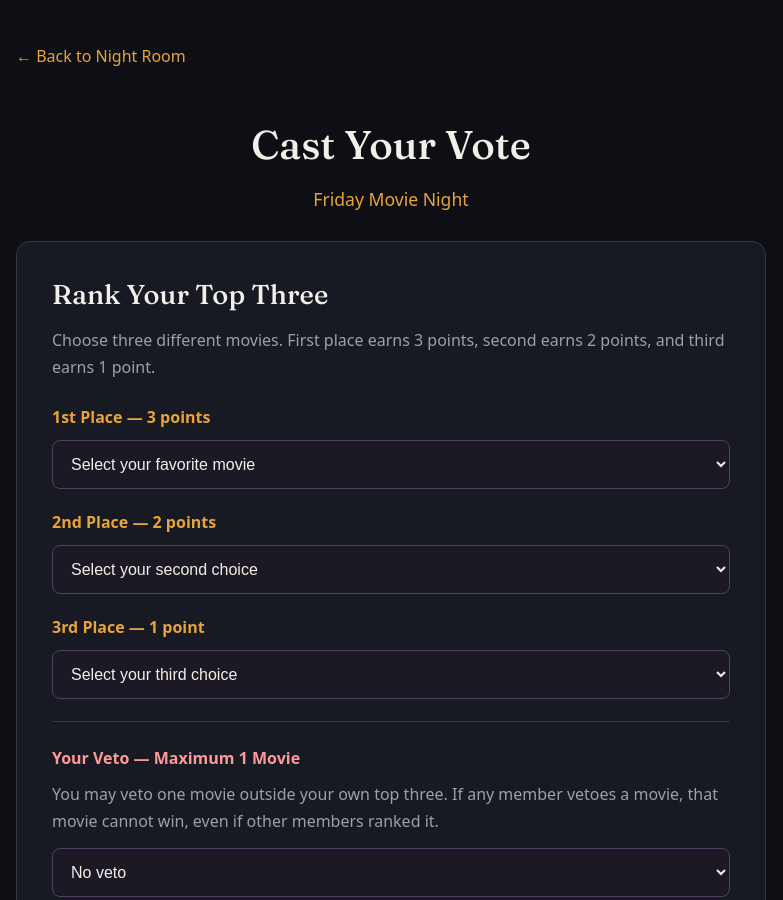
Test: ranking your own vetoed movie clears your veto
Expected: the heading "Cast Your Vote" is shown, [251,120,531,169]
Step 1. Select "Film 1" in the dropdown labelled "1st Place — 3 points" → (391, 465), box [52,440,730,489]
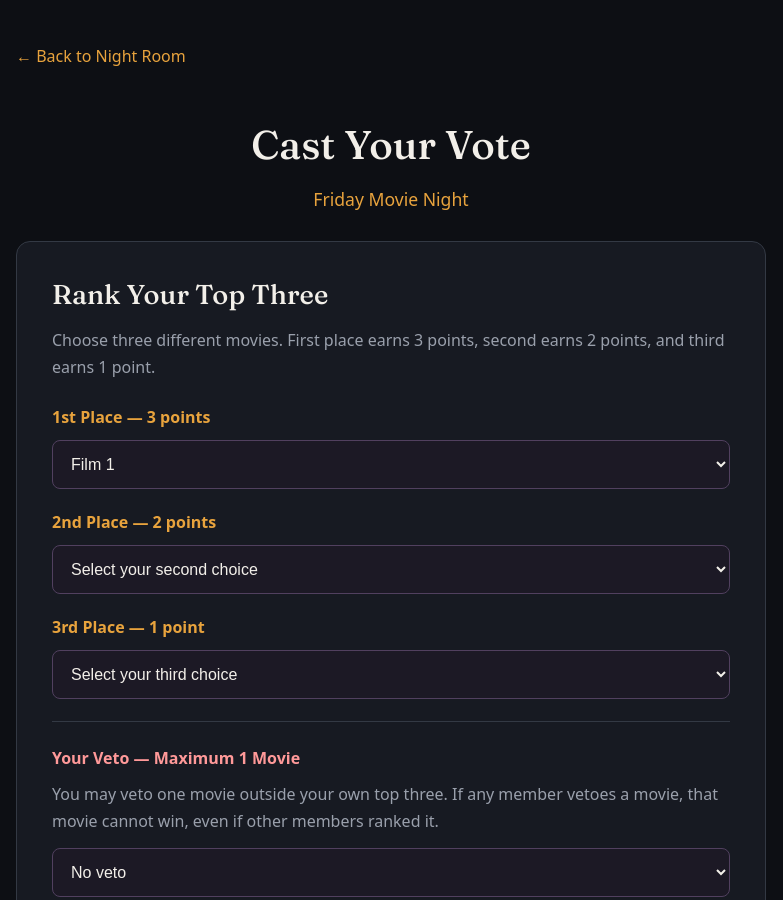
Step 2. Select "Film 2" in the dropdown labelled "2nd Place — 2 points" → (391, 570), box [52,545,730,594]
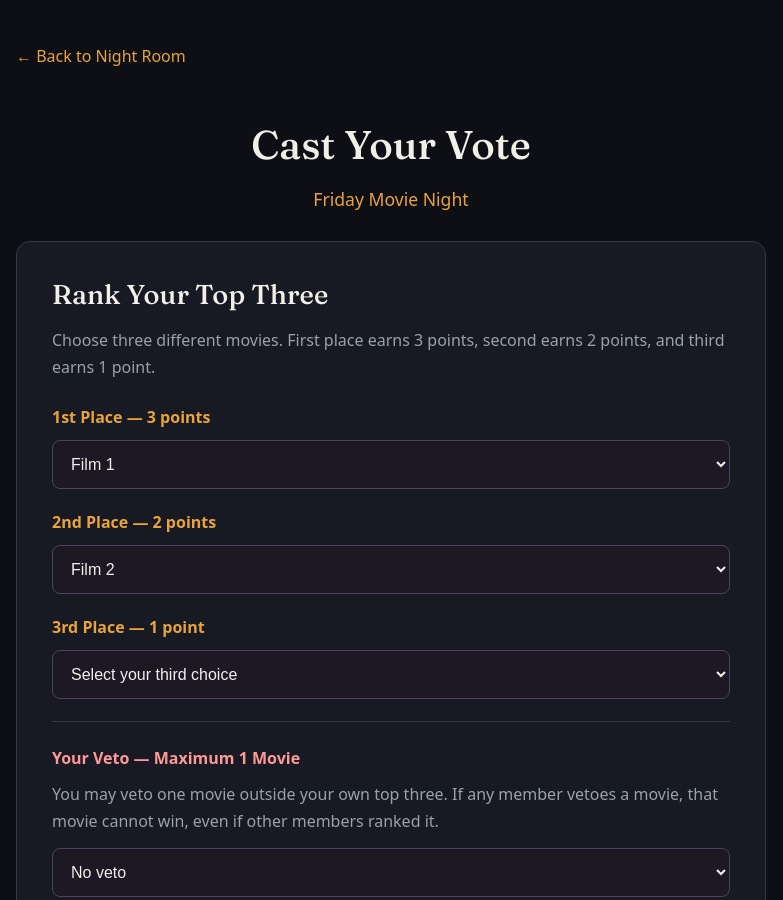
Step 3. Select "Film 3" in the dropdown labelled "3rd Place — 1 point" → (391, 675), box [52,650,730,699]
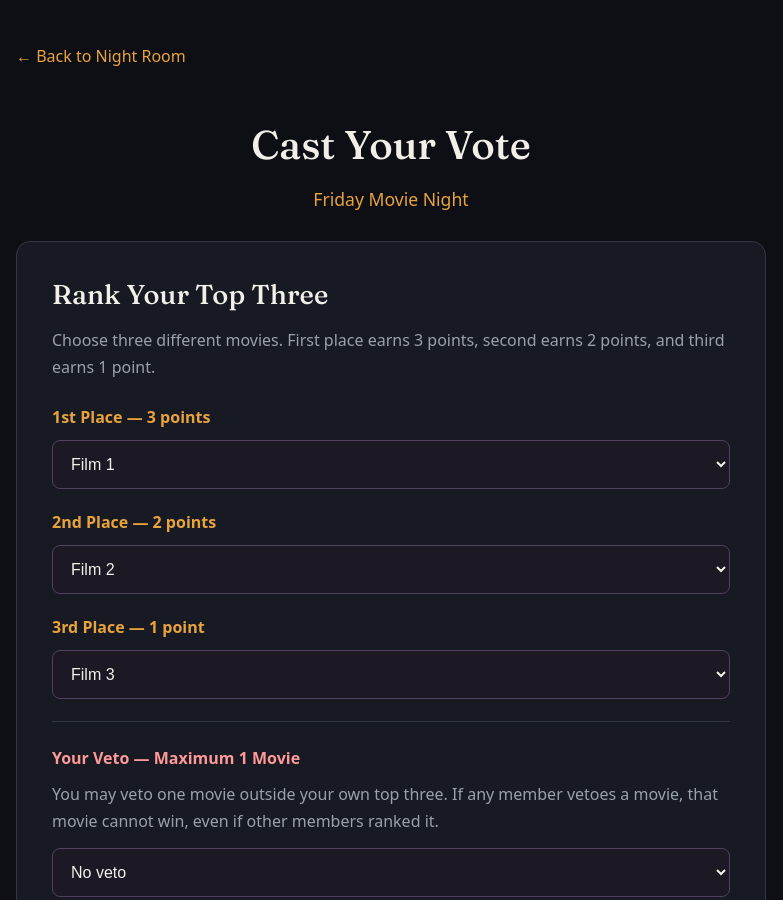
Step 4. Select "Film 4" in the dropdown labelled "Your Veto — Maximum 1 Movie" → (391, 872), box [52,848,730,896]
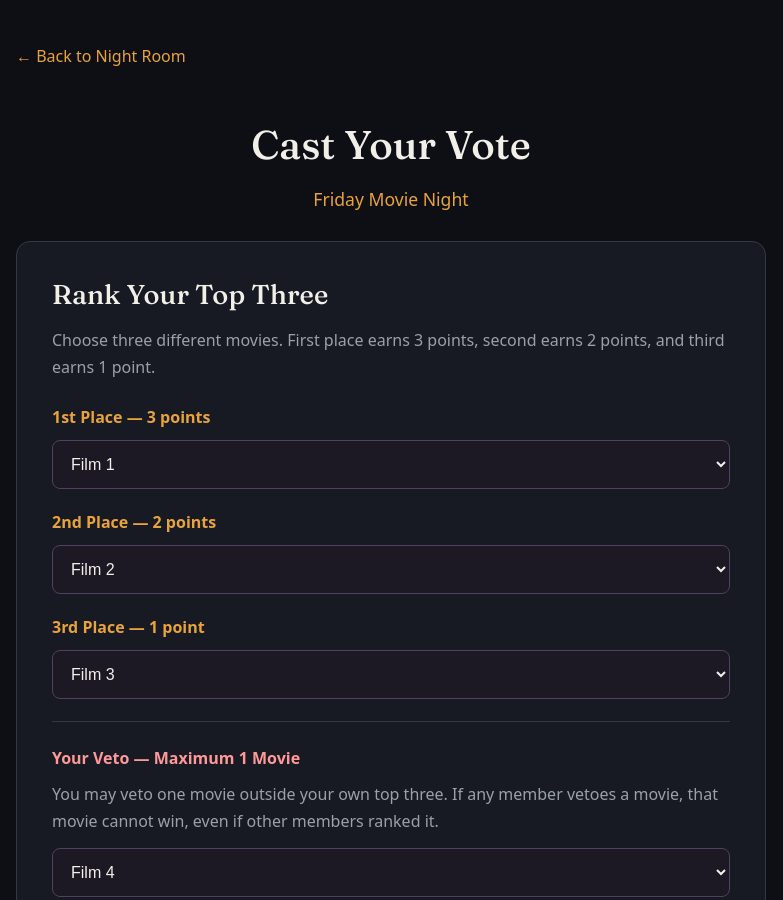
Step 5. Select "Film 4" in the dropdown labelled "1st Place — 3 points" → (391, 465), box [52,440,730,489]
(page scrolled)
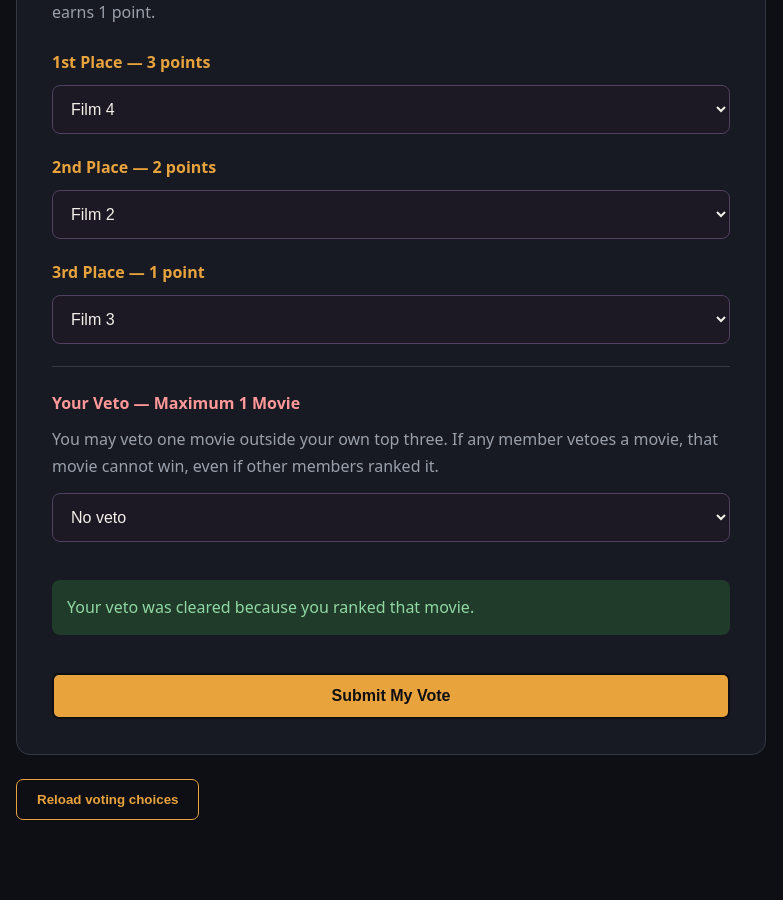
Expected: the message shows "Your veto was cleared", [67,596,474,618]
